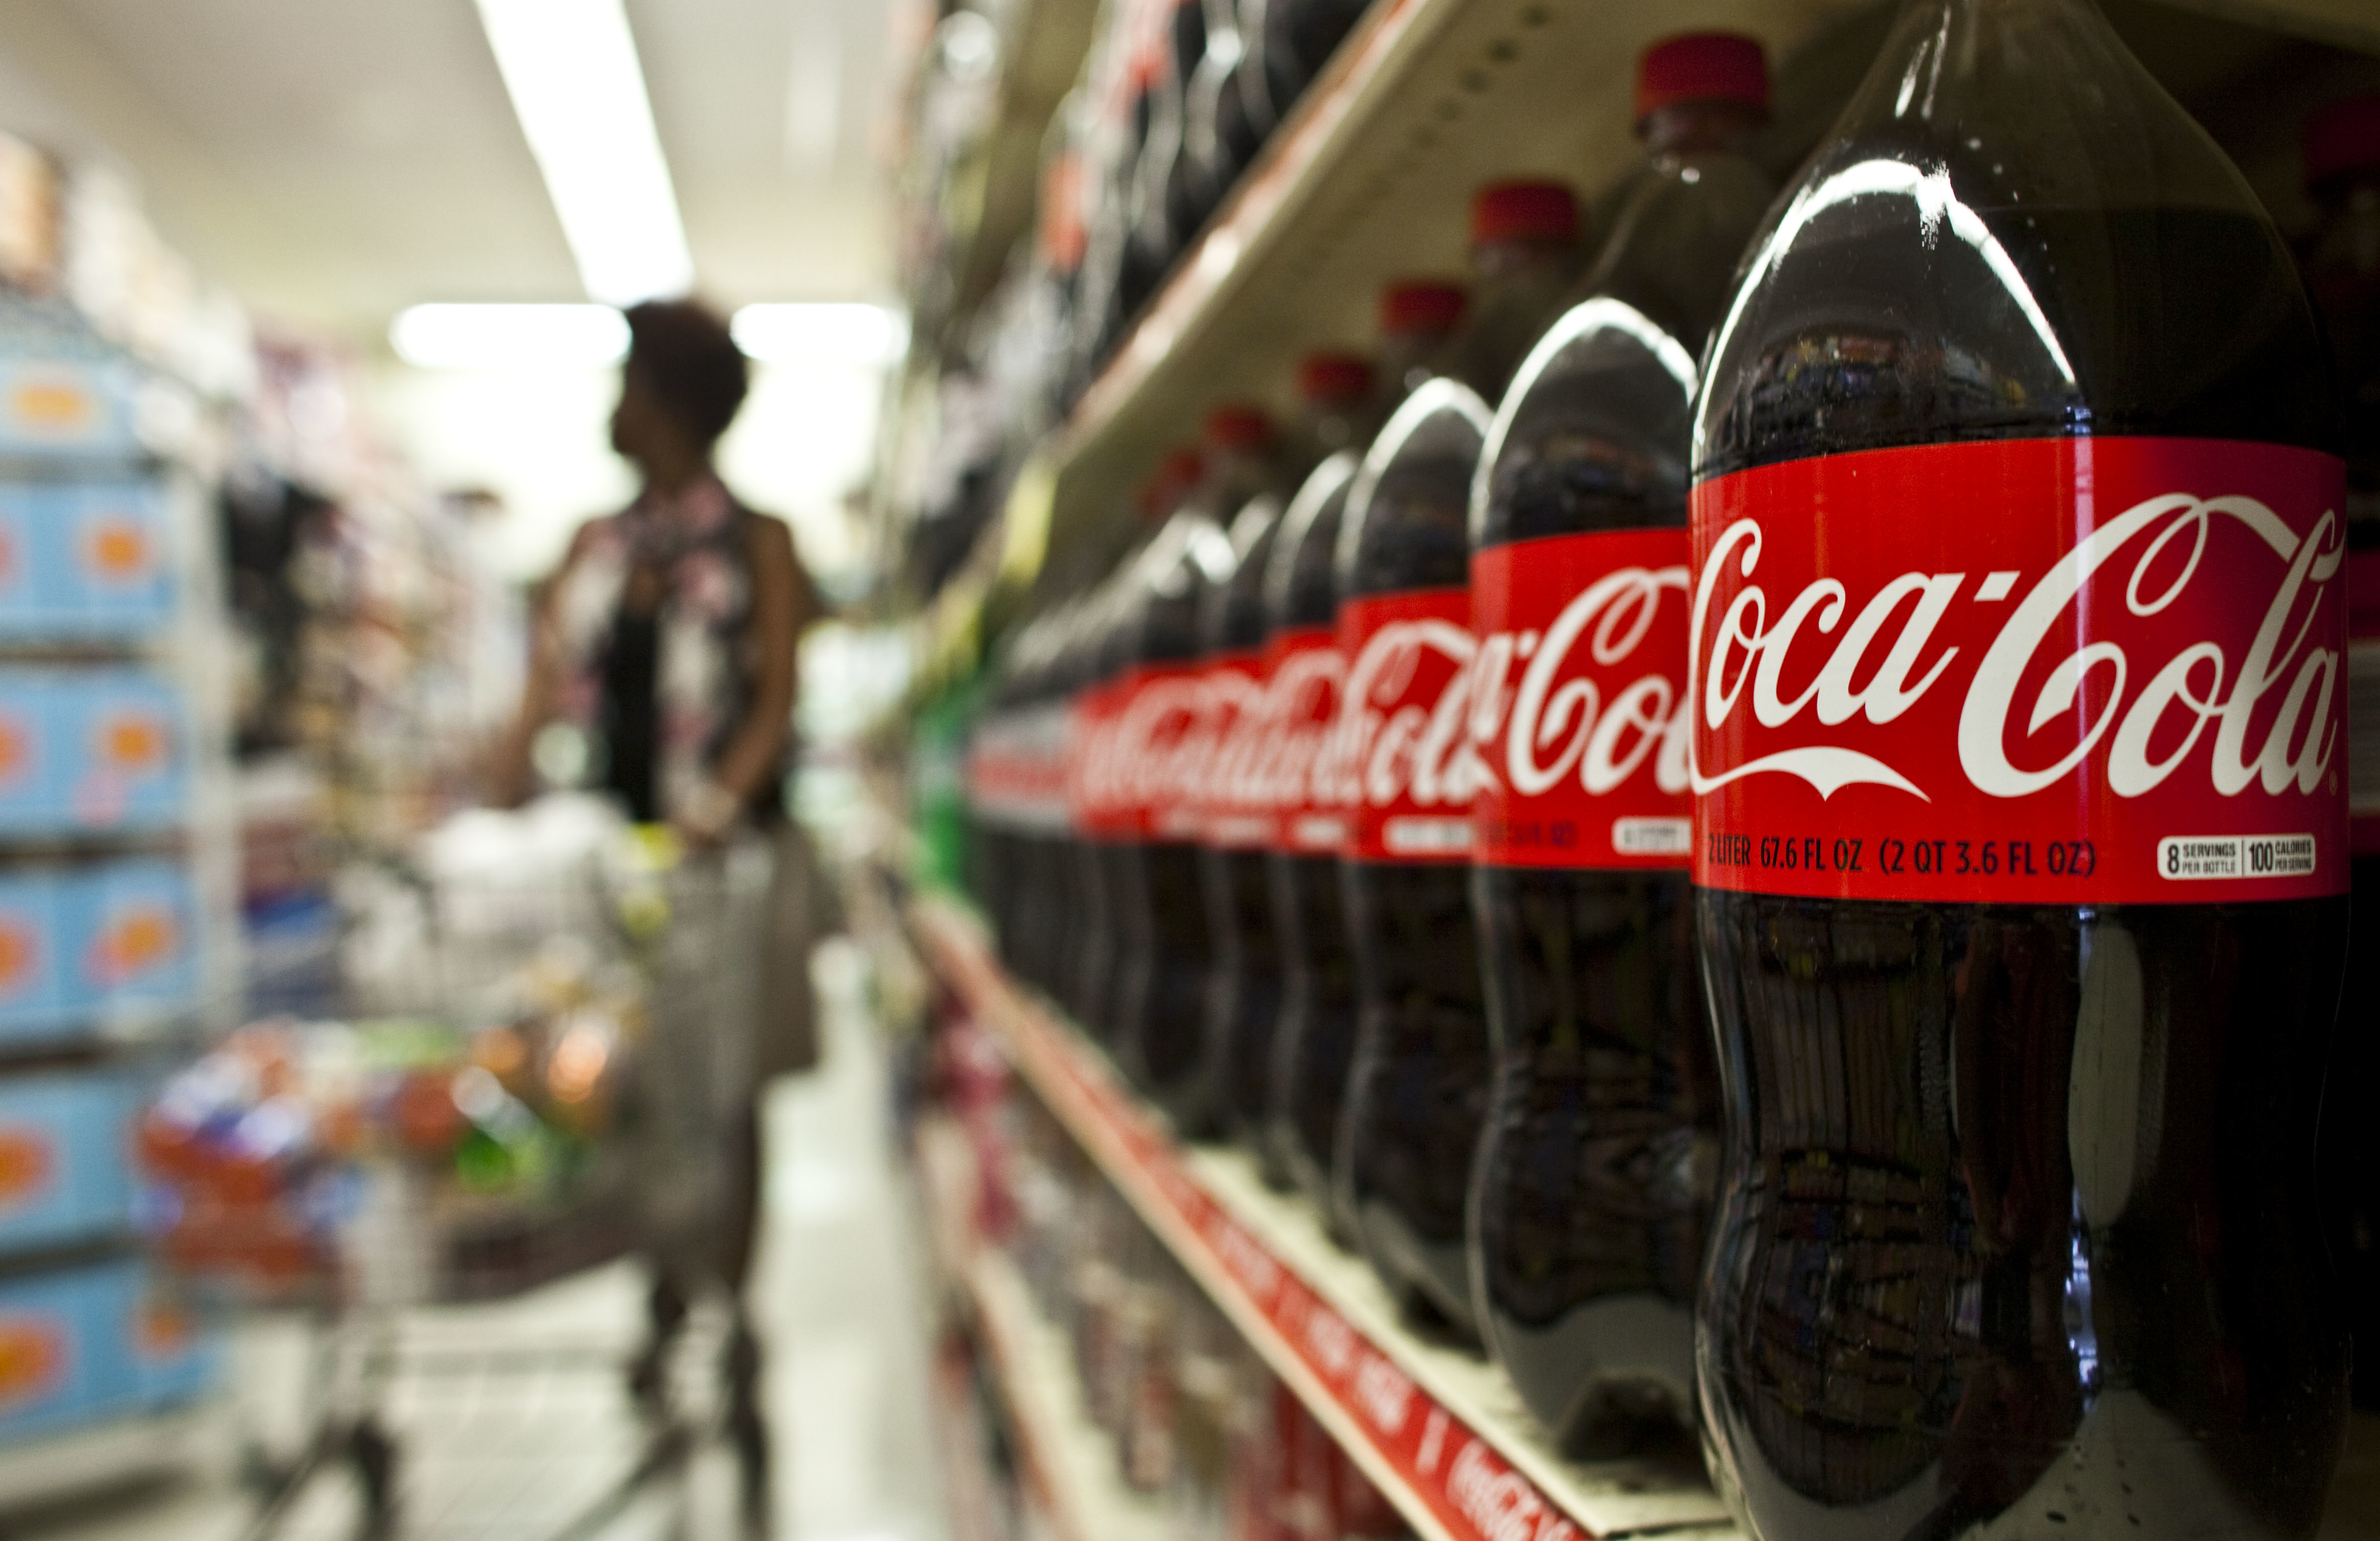coke: (1719, 16, 2368, 1541), (1462, 107, 1712, 1468), (1339, 284, 1495, 1297), (1284, 381, 1351, 1196), (1214, 399, 1284, 1135), (1140, 487, 1211, 1070)
